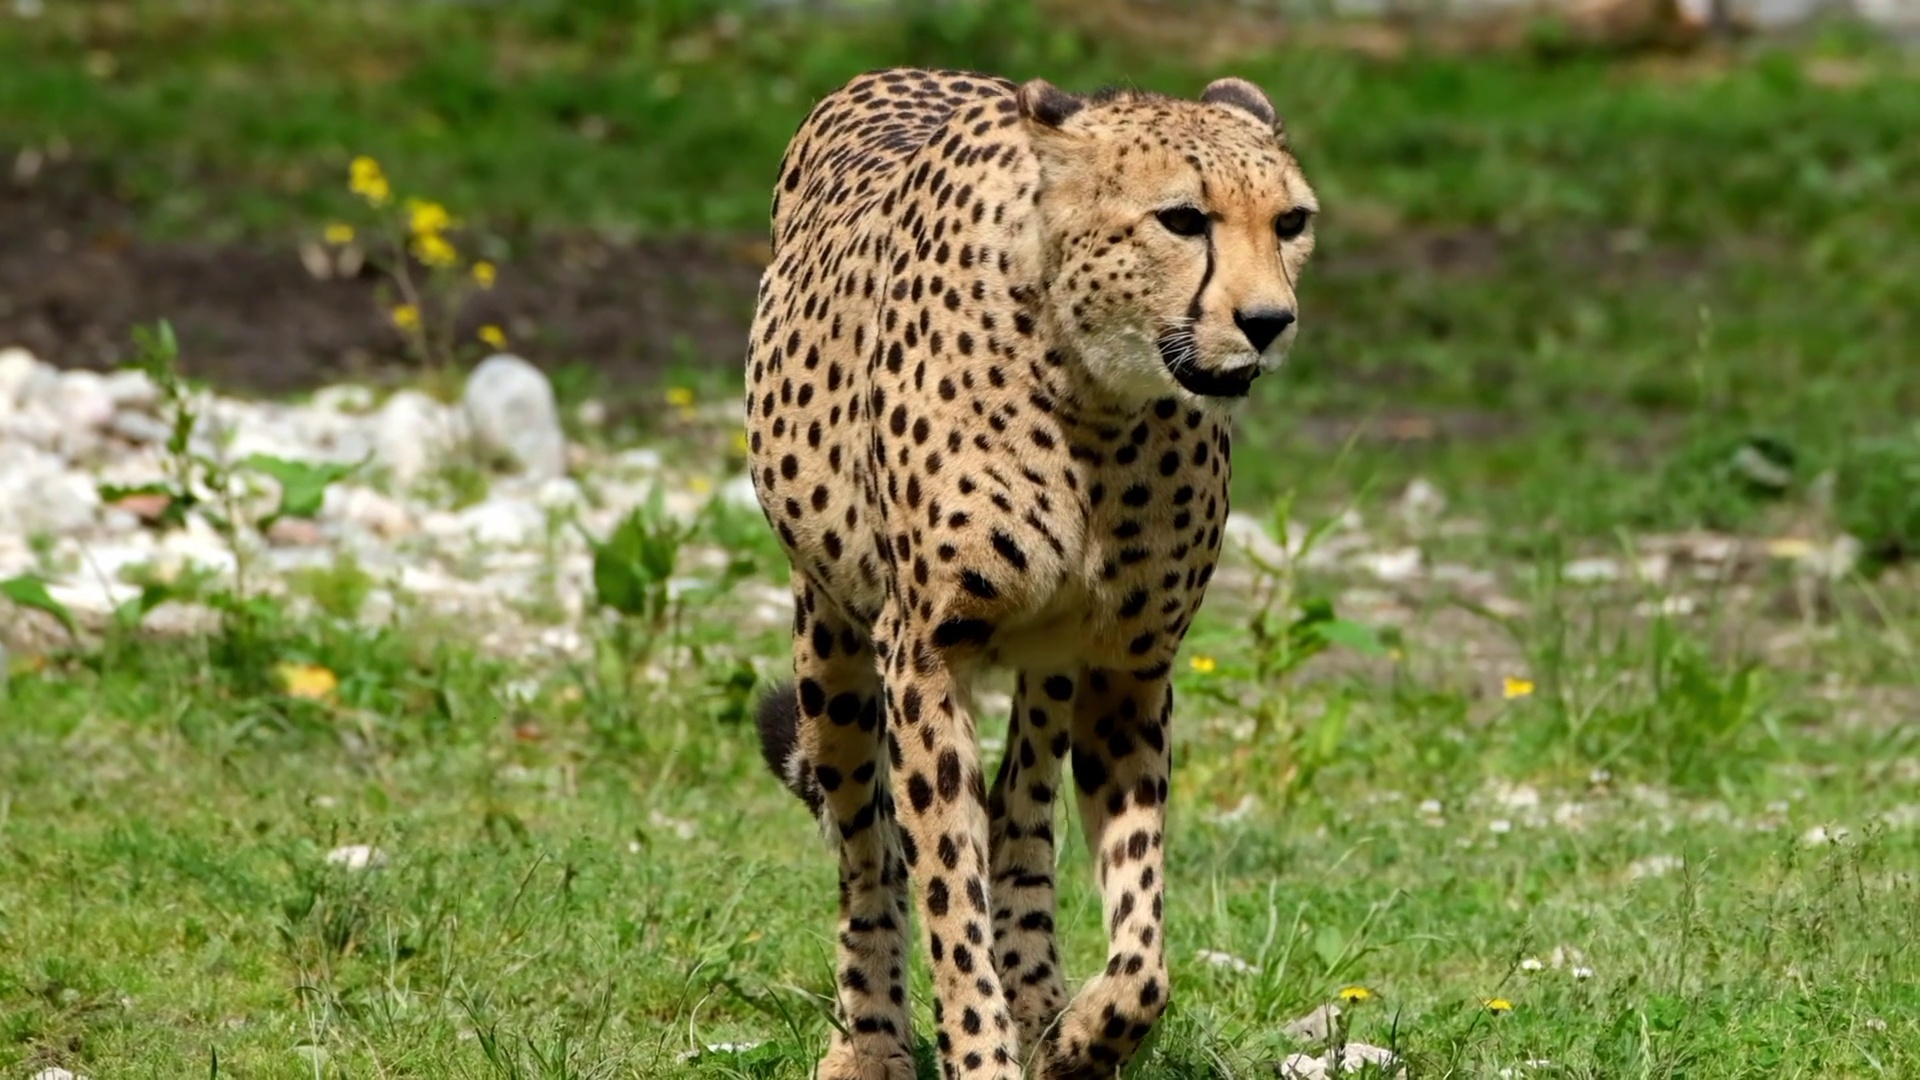Cheetah: (736, 58, 1324, 1080)
